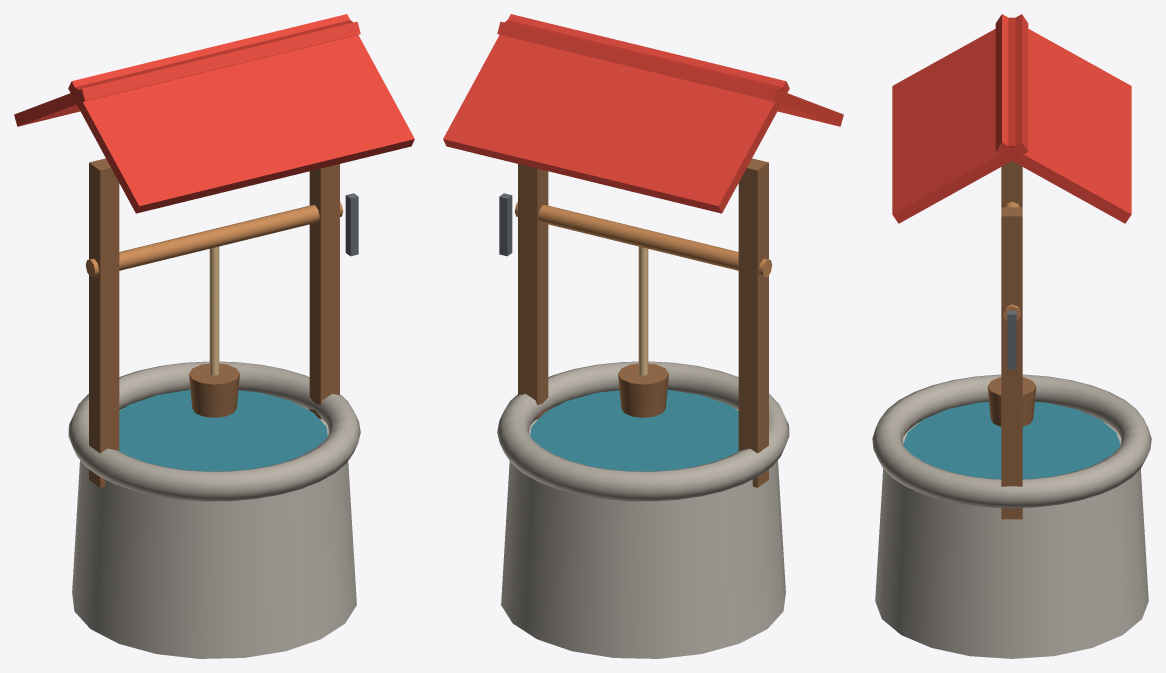
File: rainbarrel-well.glb
The picture shows the model from 3 angles, left to right: view 1: azimuth 30°, elevation 25°; view 2: azimuth 150°, elevation 25°; view 3: azimuth 270°, elevation 25°; orthographic projection. The views are drawn at different scales.
Bounding box in the file's own units: 1.01 × 1.9 × 0.9191.
